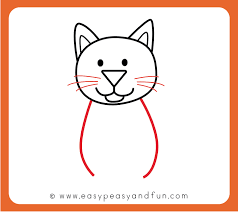cat: (64, 15, 171, 107)
